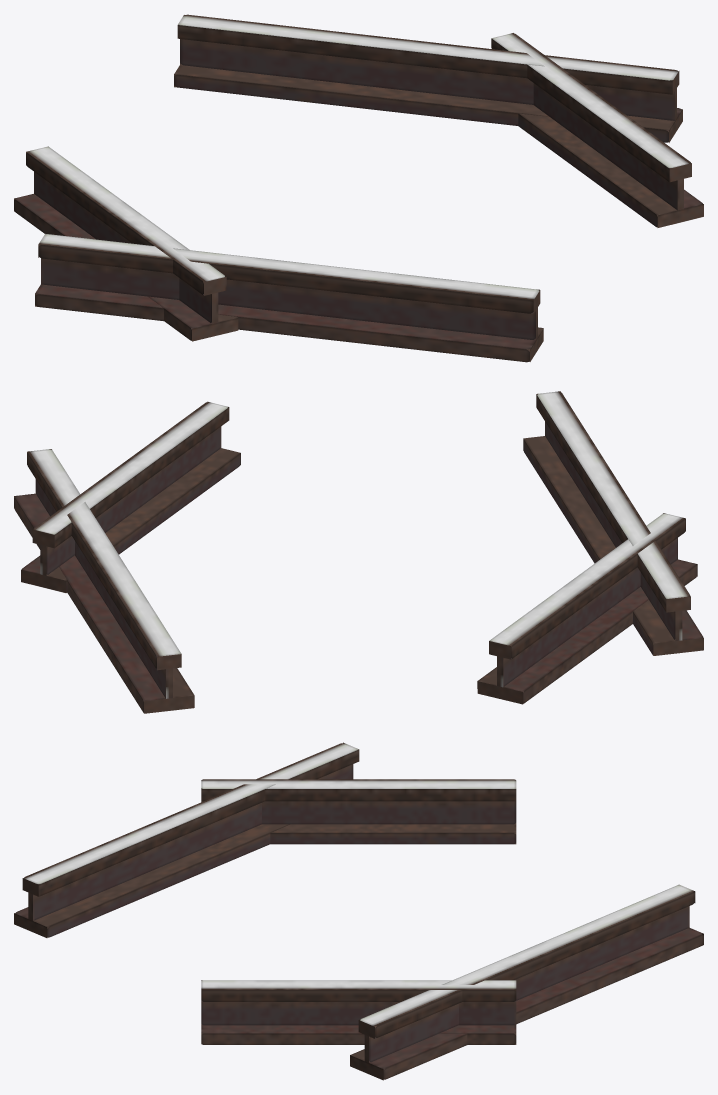
Rendered from cross_d1_zo.obj.
3 renders of one model, top to bottom at view 1: azimuth 30°, elevation 25°; view 2: azimuth 150°, elevation 25°; view 3: azimuth 270°, elevation 25°, orthographic. The views are drawn at different scales.
Visible parts, largest first — view 1: cube; view 2: cube; view 3: cube.
Part boxes in pixels (bbox=[...]): cube: bbox=[14, 14, 703, 362]; cube: bbox=[14, 391, 703, 713]; cube: bbox=[14, 742, 703, 1080].
Bounding box in the file's own units: 2.19 × 0.1759 × 2.19.
